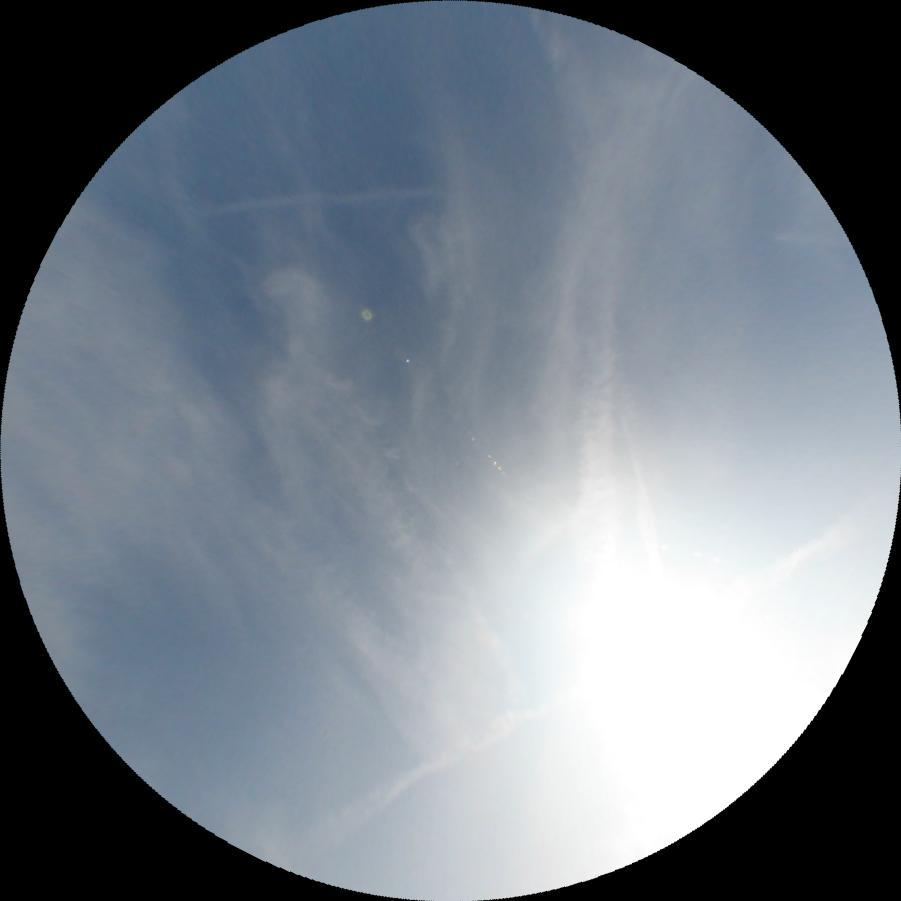contrail veryold: (281, 509, 880, 868), (195, 249, 539, 748), (157, 390, 474, 762), (522, 9, 626, 550), (603, 365, 672, 572), (205, 181, 444, 216)
sun: (520, 533, 861, 880)
